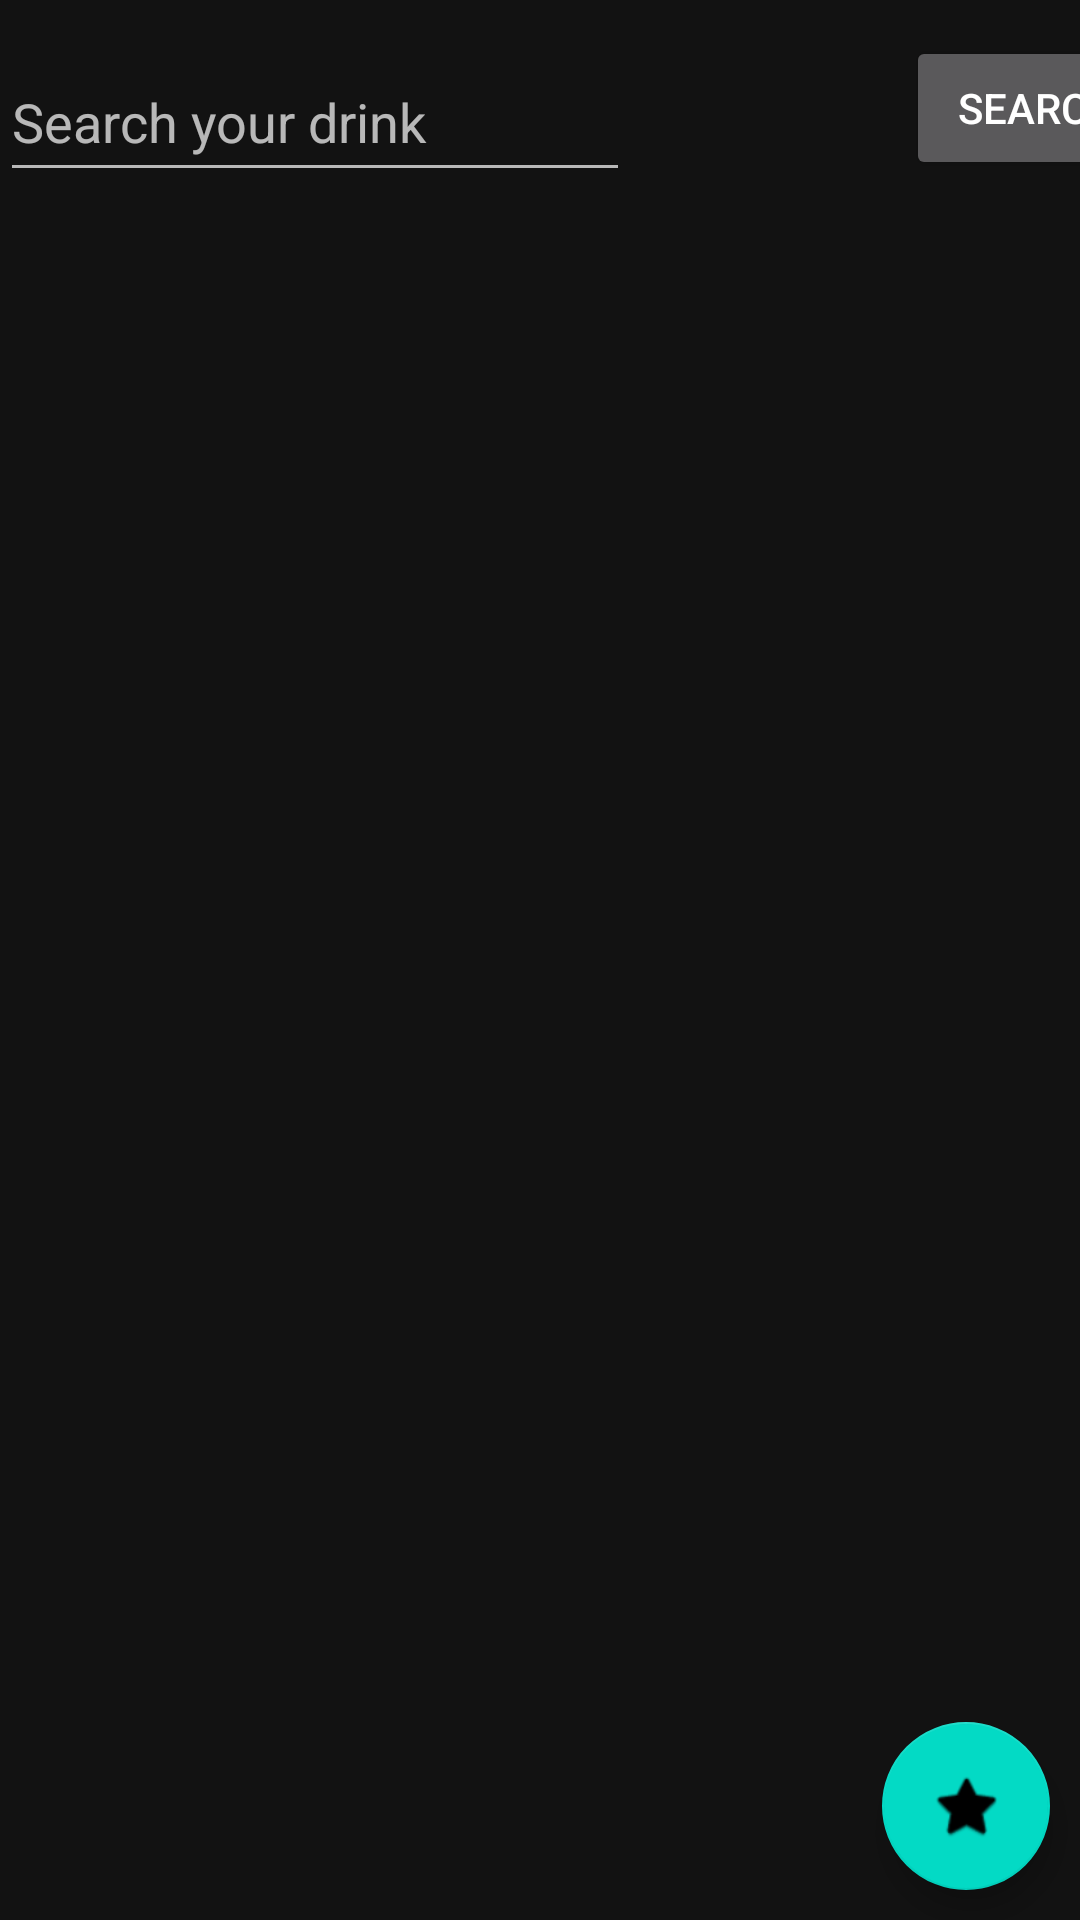

Named icons in this screenshot (1080 x 1920) and their centers, [x,y]:
star: [966,1806]
